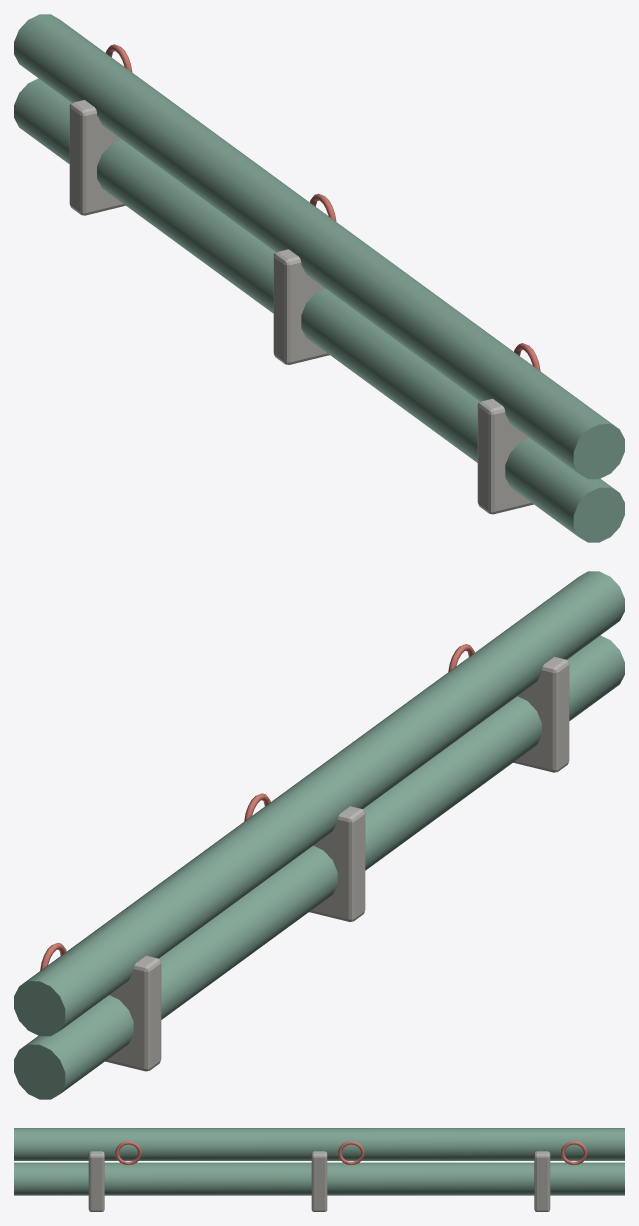
Rendered from pipes.glb.
3 views of the same model, one above another, from view 1: azimuth 30°, elevation 25°; view 2: azimuth 150°, elevation 25°; view 3: azimuth 270°, elevation 25° (orthographic). The views are drawn at different scales.
Visible parts, largest first — view 1: pipes_Palette; view 2: pipes_Palette; view 3: pipes_Palette.
Boxes of the visible parts, x1=… form: pipes_Palette: x1=14, y1=14, x2=624, y2=542; pipes_Palette: x1=14, y1=571, x2=624, y2=1099; pipes_Palette: x1=14, y1=1128, x2=624, y2=1211.
Bounding box in the file's own units: 0.8 × 1.26 × 9.6.
